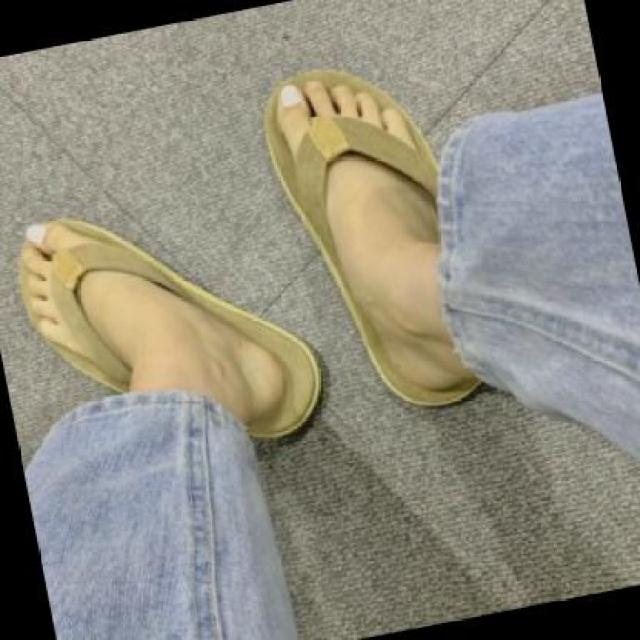Sandals: (256, 61, 509, 442), (17, 214, 335, 437)
